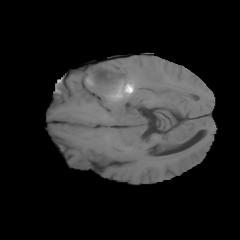glioma: (82, 59, 166, 105)
